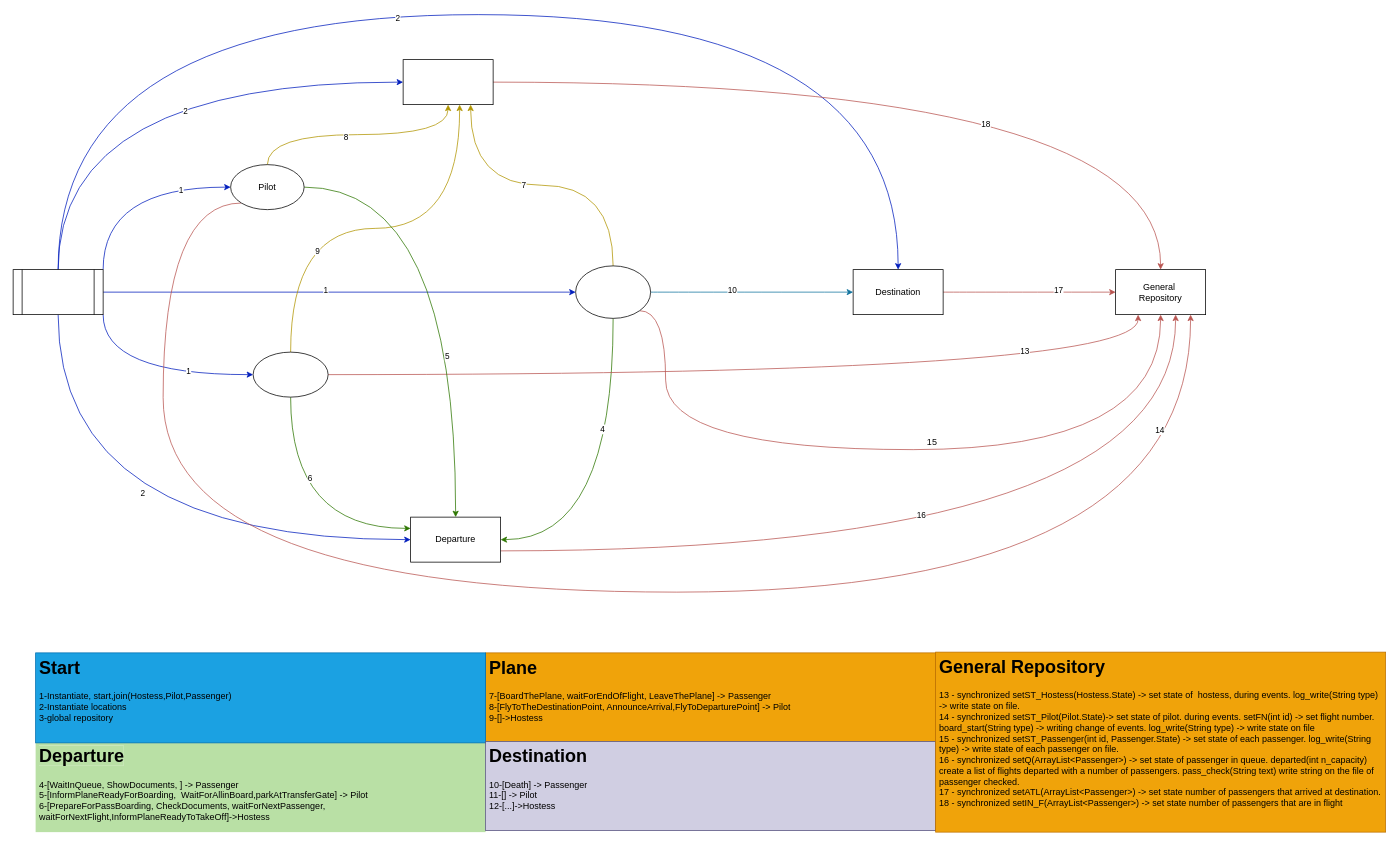
This 1399x845 diagram has some shape labels left out. Here are the shapes that lost their labels. From the top down, the box of each, then its label:
(402, 59, 493, 105): Plane
(12, 269, 103, 315): START
(575, 265, 651, 318): Passenger
(252, 351, 328, 397): Hostess
